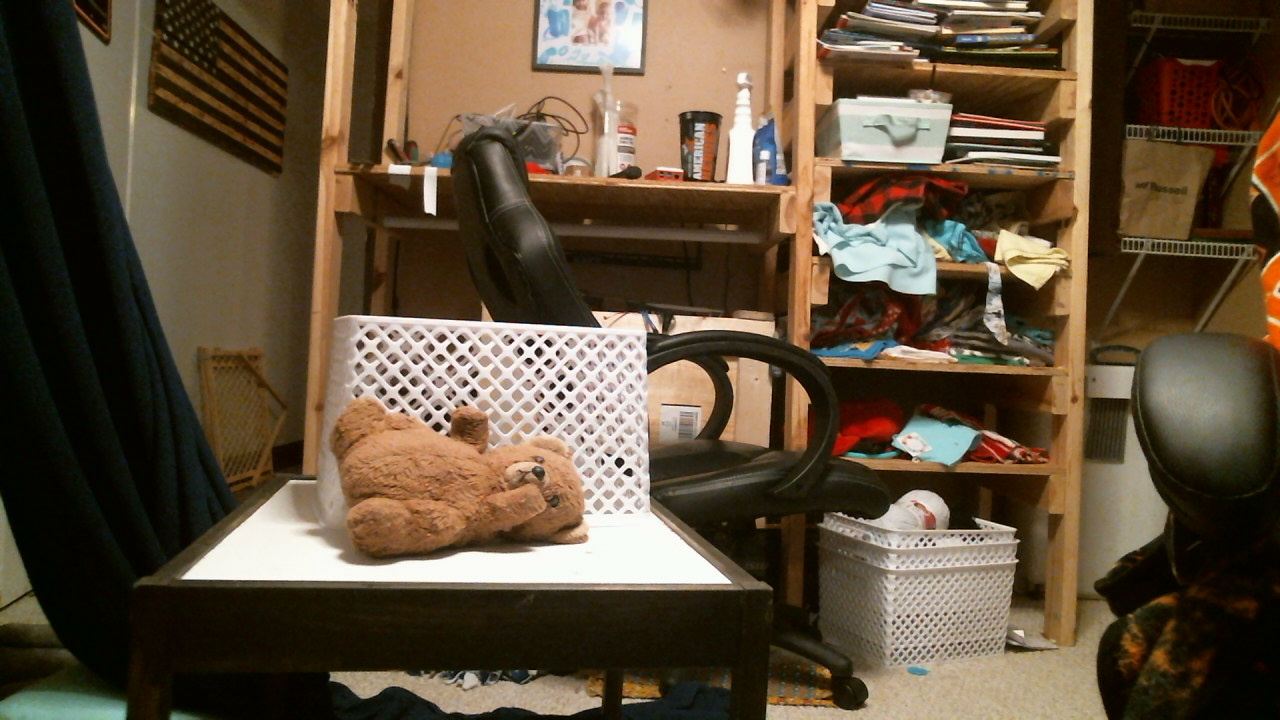Little_Mister_Bear: (500, 458, 572, 509)
